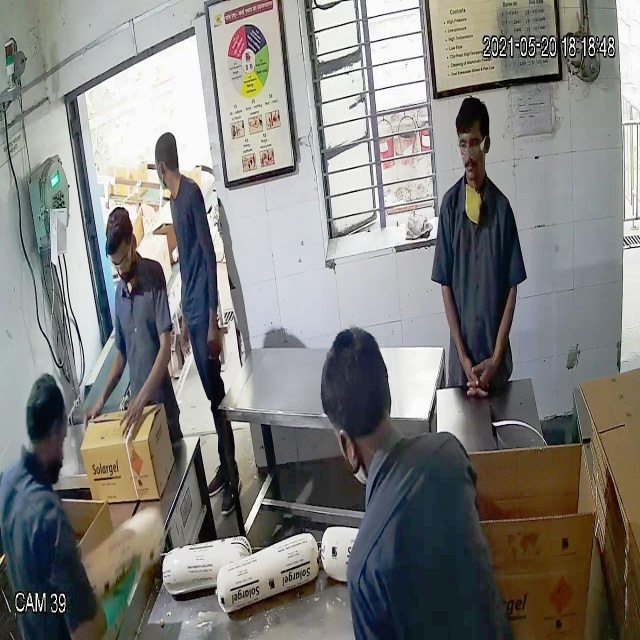Gafas: (454, 130, 489, 159), (105, 247, 134, 276)
